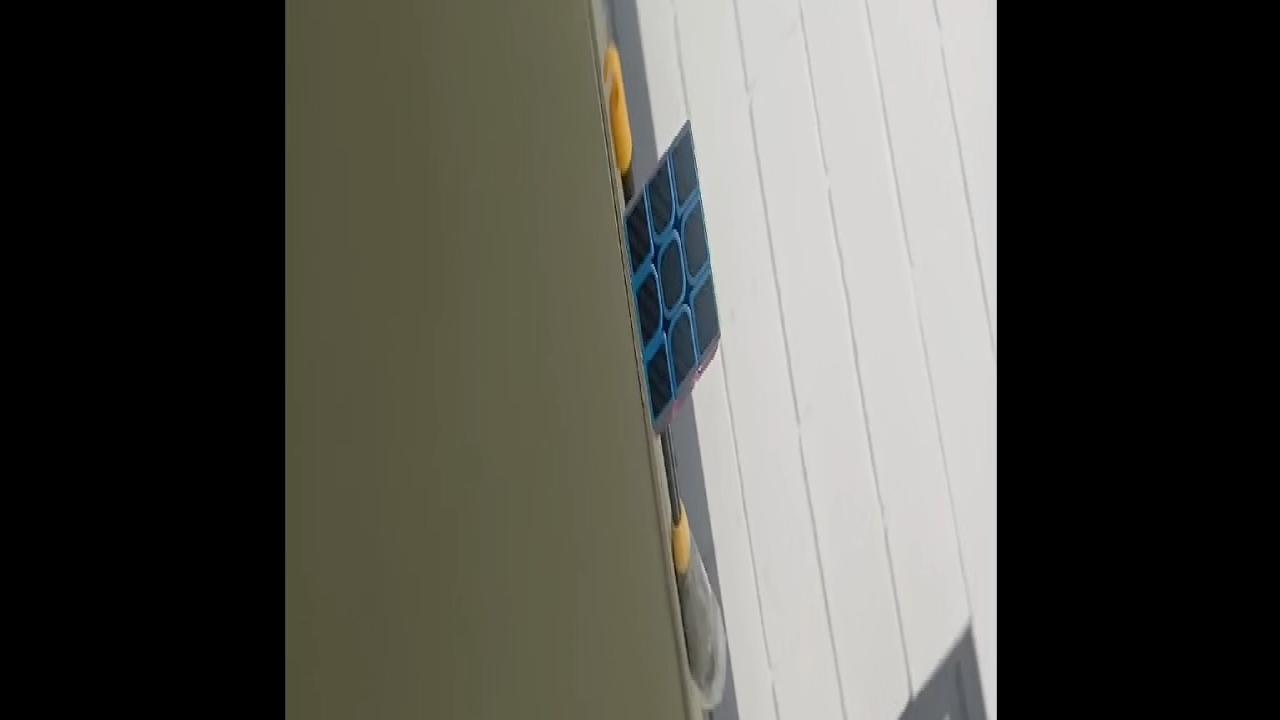Cube: (622, 115, 722, 437)
